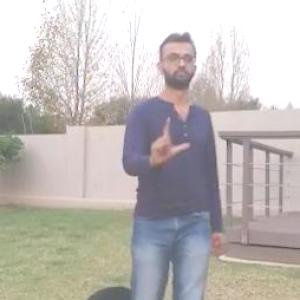land_hand: (145, 111, 190, 165)
